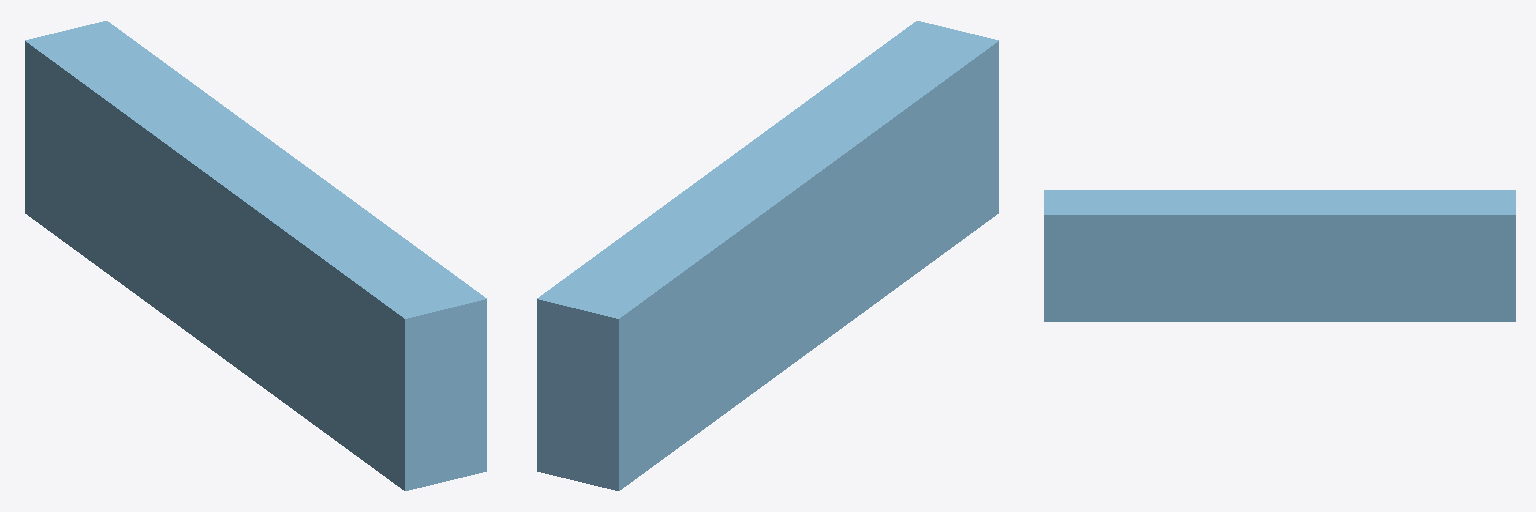
The robot description file, URDF, robot "convey_crane":
<robot name="convey_crane">
<link name="support_plaform_1">
<visual>
<origin xyz="0.085000000000000019984 0.025000000000000022204 -0.019999999999999990008" rpy="0 -0 0" />
<geometry>
<mesh filename="package://convey_crane_description/convey_crane/support_plaform_1.stl"/>
</geometry>
<material name="support_plaform_1_material">
<color rgba="0.61568627450980395466 0.81176470588235294379 0.92941176470588238168 1.0"/>
</material>
</visual>
<collision>
<origin xyz="0.085000000000000019984 0.025000000000000022204 -0.019999999999999990008" rpy="0 -0 0" />
<geometry>
<mesh filename="package://convey_crane_description/convey_crane/support_plaform_1.stl"/>
</geometry>
</collision>
<inertial>
<origin xyz="0.085000000000000019984 0.0019366224157371973117 0.20527754982977566844" rpy="0 0 0"/>
<mass value="8.3650792577619803581" />
<inertia ixx="0.18809404056513884251" ixy="0"  ixz="0" iyy="0.19768960892502629445" iyz="0.0034874963072423744229" izz="0.014632587595117504606" />
</inertial>
</link>

<link name="cart_pole_line">
<visual>
<origin xyz="0.0050000000000000009714 -0.049999999999999988898 0" rpy="-1.570796326794896558 -1.570796326794896558 0" />
<geometry>
<mesh filename="package://convey_crane_description/convey_crane/cart_pole_line.stl"/>
</geometry>
<material name="cart_pole_line_material">
<color rgba="0.61568627450980395466 0.81176470588235294379 0.92941176470588238168 1.0"/>
</material>
</visual>
<collision>
<origin xyz="0.0050000000000000009714 -0.049999999999999988898 0" rpy="-1.570796326794896558 -1.570796326794896558 0" />
<geometry>
<mesh filename="package://convey_crane_description/convey_crane/cart_pole_line.stl"/>
</geometry>
</collision>
<inertial>
<origin xyz="-0.99507213325206489429 -0.021216690244781032104 -3.5306212902930945573e-05" rpy="0 0 0"/>
<mass value="17.129471613392958318" />
<inertia ixx="0.010371517126750266768" ixy="-2.2571194222369972551e-05"  ixz="8.5176426230256071983e-06" iyy="5.7133527876254550648" iyz="-5.938288855520099704e-06" izz="5.7091229148612372413" />
</inertial>
</link>

<link name="support_plaform_1_2">
<visual>
<origin xyz="0.0049999999999998934186 -0.48999999999999999112 6.9388939039072283776e-17" rpy="-1.570796326794896558 -1.570796326794896558 0" />
<geometry>
<mesh filename="package://convey_crane_description/convey_crane/support_plaform_1.stl"/>
</geometry>
<material name="support_plaform_1_material">
<color rgba="0.61568627450980395466 0.81176470588235294379 0.92941176470588238168 1.0"/>
</material>
</visual>
<collision>
<origin xyz="0.0049999999999998934186 -0.48999999999999999112 6.9388939039072283776e-17" rpy="-1.570796326794896558 -1.570796326794896558 0" />
<geometry>
<mesh filename="package://convey_crane_description/convey_crane/support_plaform_1.stl"/>
</geometry>
</collision>
<inertial>
<origin xyz="-0.018063377584262931691 -0.26472245017022433267 6.5441072379336884681e-17" rpy="0 0 0"/>
<mass value="8.3650792577619803581" />
<inertia ixx="0.19768960892502629445" ixy="0.0034874963072423744229"  ixz="0" iyy="0.014632587595117504606" iyz="0" izz="0.18809404056513884251" />
</inertial>
</link>

<joint name="fastened 3" type="fixed">
<origin xyz="-1.9900000000000002132 -1.1102230246251565404e-16 1.3877787807814456755e-17" rpy="3.141592653589793116 -0 3.141592653589793116" />
<parent link="cart_pole_line" />
<child link="support_plaform_1_2" />
<axis xyz="0 0 1"/>
<limit effort="1" velocity="20" />
<joint_properties friction="0.0"/>
</joint>

<link name="cart_move">
<visual>
<origin xyz="0.090000000000000024425 -0.025000000000000022204 -0.075000000000000066613" rpy="-1.570796326794896558 -1.570796326794896336 0" />
<geometry>
<mesh filename="package://convey_crane_description/convey_crane/cart_move.stl"/>
</geometry>
<material name="cart_move_material">
<color rgba="0.61568627450980395466 0.81176470588235294379 0.92941176470588238168 1.0"/>
</material>
</visual>
<collision>
<origin xyz="0.090000000000000024425 -0.025000000000000022204 -0.075000000000000066613" rpy="-1.570796326794896558 -1.570796326794896336 0" />
<geometry>
<mesh filename="package://convey_crane_description/convey_crane/cart_move.stl"/>
</geometry>
</collision>
<inertial>
<origin xyz="0.040619485761392813694 0.03507424335133896981 -5.5511151231257827021e-17" rpy="0 0 0"/>
<mass value="2.7582989593438584919" />
<inertia ixx="0.0072884337806232426735" ixy="1.7214130923659983201e-05"  ixz="5.5457548773363819873e-21" iyy="0.007943139603199119228" iyz="9.1364122808394913014e-19" izz="0.0051071794741707502926" />
</inertial>
</link>

<link name="cart_swinger">
<visual>
<origin xyz="1.1102230246251565404e-16 -0.47999999999999998224 -0.0050000000000000044409" rpy="-1.570796326794896558 -0 -4.8423381458879010319e-33" />
<geometry>
<mesh filename="package://convey_crane_description/convey_crane/cart_swinger.stl"/>
</geometry>
<material name="cart_swinger_material">
<color rgba="0.61568627450980395466 0.81176470588235294379 0.92941176470588238168 1.0"/>
</material>
</visual>
<collision>
<origin xyz="1.1102230246251565404e-16 -0.47999999999999998224 -0.0050000000000000044409" rpy="-1.570796326794896558 -0 -4.8423381458879010319e-33" />
<geometry>
<mesh filename="package://convey_crane_description/convey_crane/cart_swinger.stl"/>
</geometry>
</collision>
<inertial>
<origin xyz="8.9449481309083387936e-17 -0.23320688038281839338 0.0074999999999999893141" rpy="0 0 0"/>
<mass value="0.96730709424135585817" />
<inertia ixx="0.019645015474623172408" ixy="-9.4558020683389170413e-35"  ixz="6.5797313948525898238e-12" iyy="0.00011766776891047566519" iyz="-3.1861284322990905052e-44" izz="0.019666908757294859073" />
</inertial>
</link>

<link name="mass_swing">
<visual>
<origin xyz="0.024999999999999994449 0 0" rpy="1.570796326794896558 1.570796326794896558 0" />
<geometry>
<mesh filename="package://convey_crane_description/convey_crane/mass_swing.stl"/>
</geometry>
<material name="mass_swing_material">
<color rgba="0.61568627450980395466 0.81176470588235294379 0.92941176470588238168 1.0"/>
</material>
</visual>
<collision>
<origin xyz="0.024999999999999994449 0 0" rpy="1.570796326794896558 1.570796326794896558 0" />
<geometry>
<mesh filename="package://convey_crane_description/convey_crane/mass_swing.stl"/>
</geometry>
</collision>
<inertial>
<origin xyz="0.01249999999999999549 -0.024999999999999994449 -1.3629324809953193268e-17" rpy="0 0 0"/>
<mass value="0.67500000000000004441" />
<inertia ixx="0.0023906250000000003886" ixy="0"  ixz="0" iyy="0.0022851562500000002949" iyz="1.4636729328554310822e-19" izz="0.00017578124999999993928" />
</inertial>
</link>

<joint name="fastened 1" type="fixed">
<origin xyz="1.1102230246251565404e-16 -0.4749999999999999778 0.019999999999999990008" rpy="-3.141592653589793116 -1.570796326794896558 0" />
<parent link="cart_swinger" />
<child link="mass_swing" />
<axis xyz="0 0 1"/>
<limit effort="1" velocity="20" />
<joint_properties friction="0.0"/>
</joint>

<joint name="continuous_revolute 1" type="continuous">
<origin xyz="0.10468245836551856587 0.024999999999999744649 0" rpy="-0 1.570796326794896336 0" />
<parent link="cart_move" />
<child link="cart_swinger" />
<axis xyz="0 0 1"/>
<limit effort="1" velocity="20" />
<joint_properties friction="0.0"/>
</joint>

<joint name="slider 1" type="prismatic">
<origin xyz="-0.99499999999999999556 -0.024999999999999966693 -0.039999999999999980016" rpy="-0 -1.570796326794896558 0" />
<parent link="cart_pole_line" />
<child link="cart_move" />
<axis xyz="0 0 1"/>
<limit effort="1" velocity="20" lower="-0.80000000000000004441" upper="0.80000000000000004441"/>
<joint_properties friction="0.0"/>
</joint>

<joint name="fastened 2" type="fixed">
<origin xyz="0.084999999999999964473 0.020000000000000021233 0.46999999999999997335" rpy="1.570796326794896558 -0 1.570796326794896558" />
<parent link="support_plaform_1" />
<child link="cart_pole_line" />
<axis xyz="0 0 1"/>
<limit effort="1" velocity="20" />
<joint_properties friction="0.0"/>
</joint>


</robot>

--- Facts derived from the render (not from the file) ---
Views: 3 orthographic renders of the robot side by side, from view 1: azimuth 30°, elevation 25°; view 2: azimuth 150°, elevation 25°; view 3: azimuth 270°, elevation 25°.
Model convey_crane with 6 links and 5 joints (1 continuous, 1 prismatic, 3 fixed), rooted at support_plaform_1, posed every joint at zero.
Visible links, largest first — view 1: mass_swing; view 2: mass_swing; view 3: mass_swing.
Link boxes in pixels (x1,y1,x2,y2): mass_swing: (25,21,486,490); mass_swing: (537,21,998,490); mass_swing: (1044,190,1515,321).
Size in the robot's own frame: 0.025 by 0.2 by 0.05 metres.
1 mesh visuals loaded from 5 distinct referenced files (1 binary STL); not drawn: 5 (reference not matched to a file when rendering).